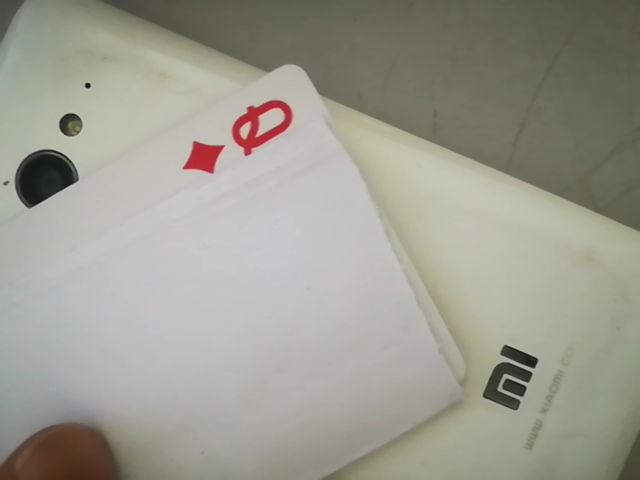fk q: (181, 93, 306, 182)
